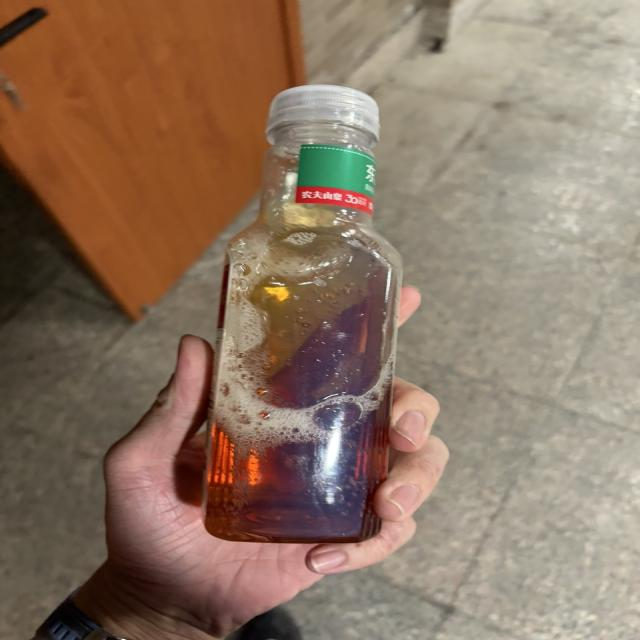medium: (202, 85, 401, 542)
